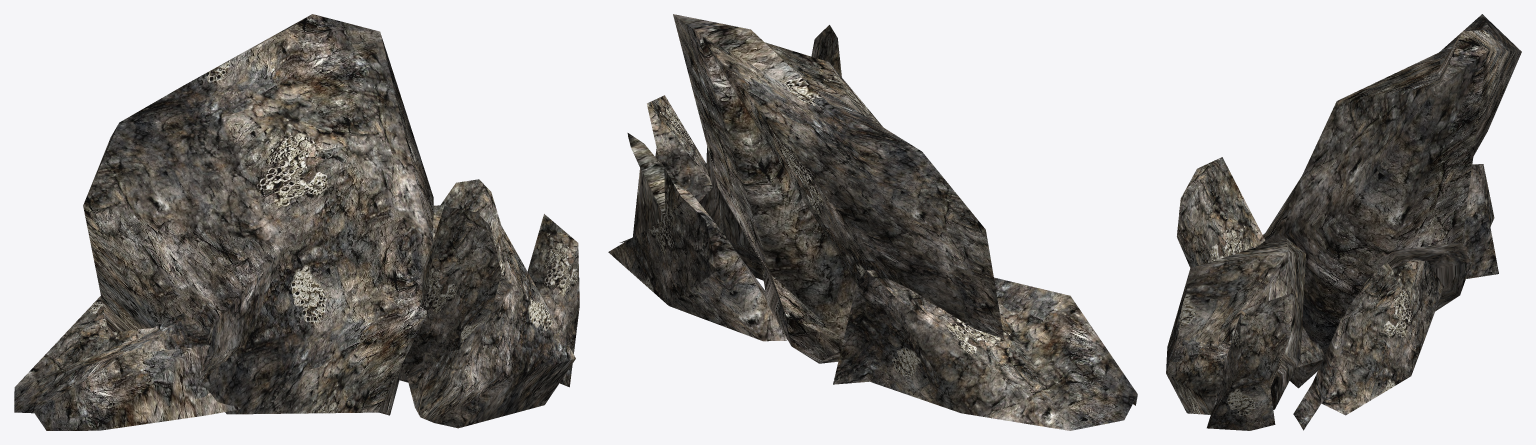
File: pir_m_prp_dvj_rockGroupBare_b.fbx
The picture shows the model from 3 angles, left to right: view 1: azimuth 30°, elevation 25°; view 2: azimuth 150°, elevation 25°; view 3: azimuth 270°, elevation 25°; orthographic projection. The views are drawn at different scales.
Parts seen in each view (by area): view 1: bigrock2, small_rock4, bigrock, small_rock3, small_rock5, rock1; view 2: bigrock2, small_rock4, rock1, small_rock5, bigrock, small_rock3; view 3: bigrock2, bigrock, rock1, small_rock5, small_rock3, small_rock4.
Boxes of the visible parts, x1,y1,x2,y2 form: bigrock2: [83, 14, 433, 415]; small_rock4: [14, 296, 240, 430]; bigrock: [405, 215, 575, 428]; small_rock3: [399, 206, 501, 382]; small_rock5: [527, 214, 579, 387]; rock1: [433, 179, 500, 238]; bigrock2: [673, 14, 1003, 363]; small_rock4: [833, 270, 1137, 430]; rock1: [608, 133, 787, 341]; small_rock5: [647, 95, 712, 201]; bigrock: [699, 146, 763, 280]; small_rock3: [811, 25, 841, 76]; bigrock2: [1259, 14, 1521, 388]; bigrock: [1166, 237, 1305, 414]; rock1: [1293, 259, 1443, 430]; small_rock5: [1207, 292, 1293, 430]; small_rock3: [1177, 157, 1324, 367]; small_rock4: [1462, 164, 1498, 278].
Bounding box in the file's own units: 4532 × 2925 × 2726.
Materials: 1 (1 with a texture image).
